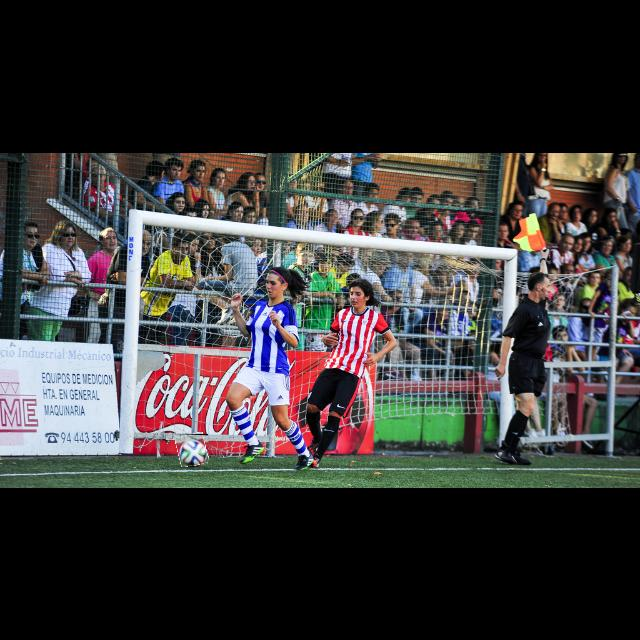Football: (176, 434, 208, 466)
